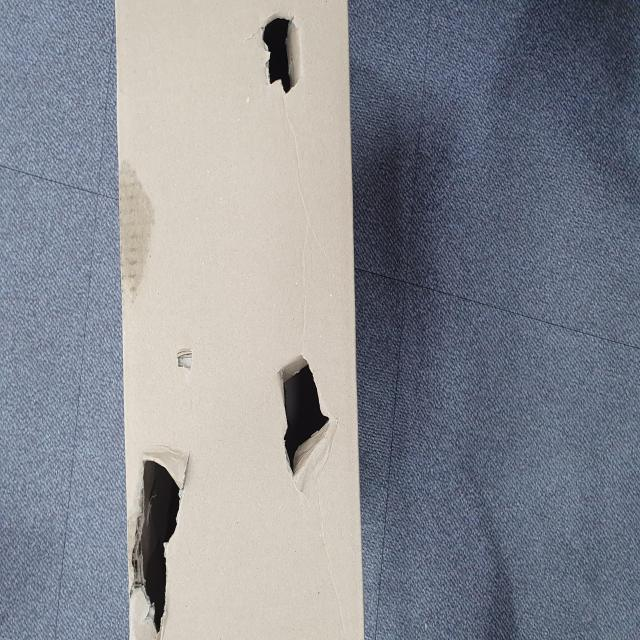damaged: (196, 542, 288, 640), (4, 598, 66, 640)
